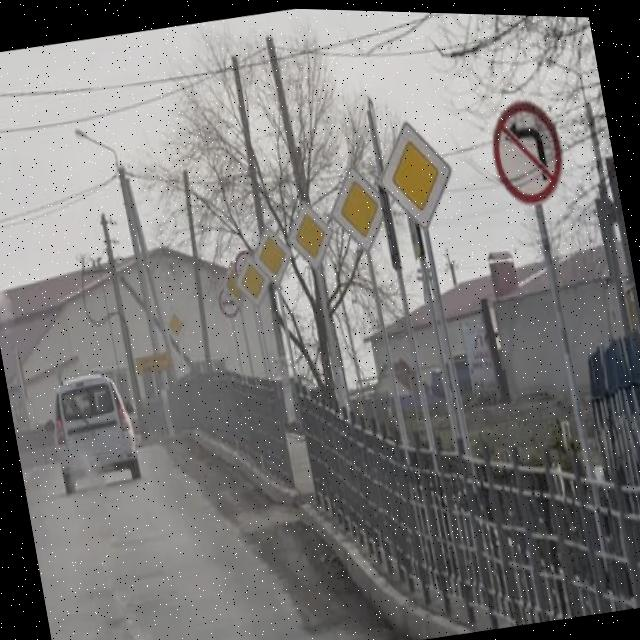signs: (370, 105, 462, 235), (324, 153, 392, 254), (280, 193, 338, 273), (249, 219, 296, 284), (233, 249, 274, 308), (218, 254, 253, 309)
